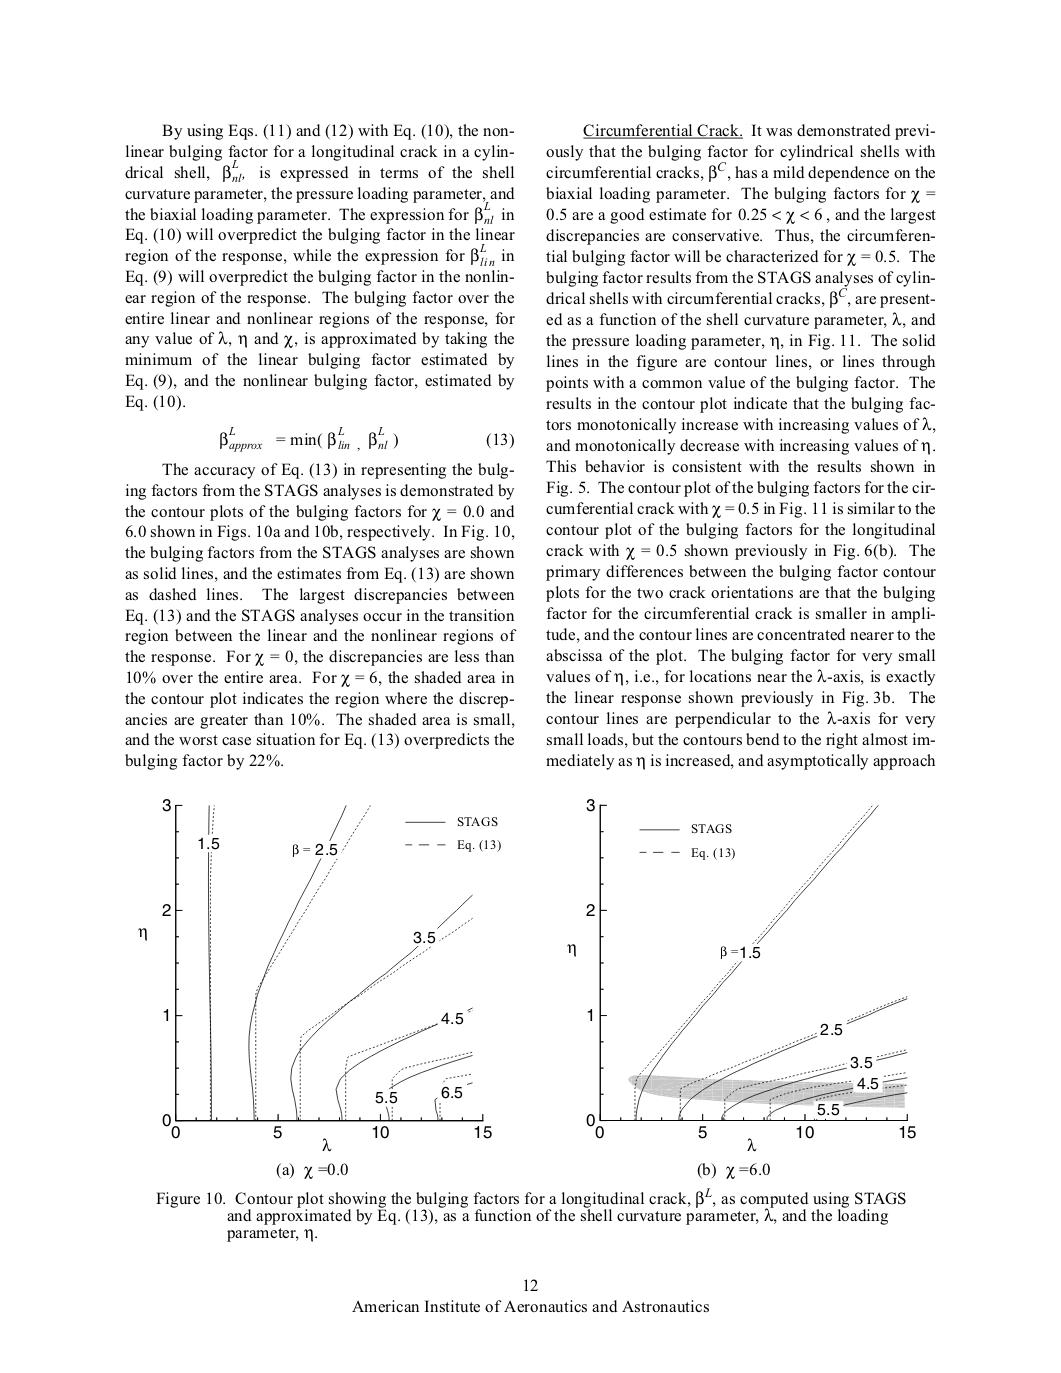figure: (138, 798, 500, 1152), (567, 798, 915, 1152)
formula: (220, 425, 513, 452)
